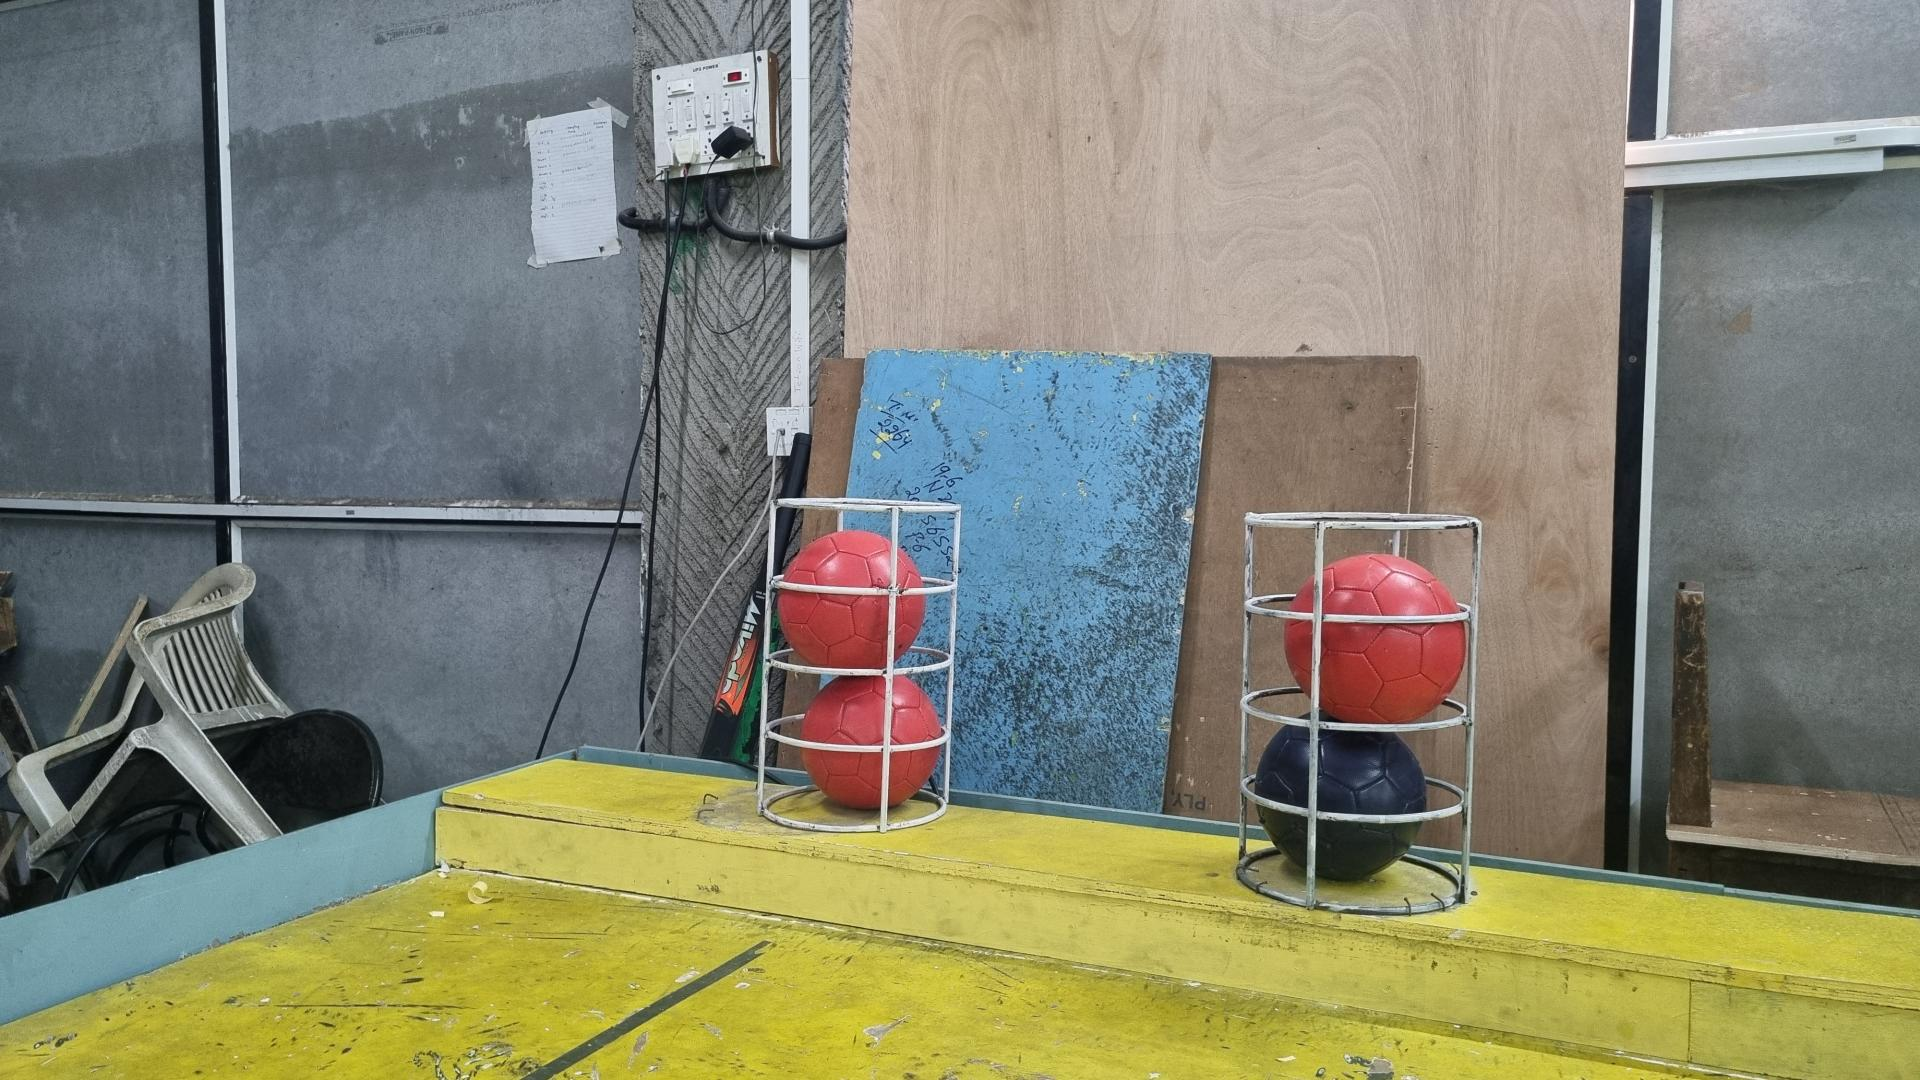dhoka: (1250, 713, 1425, 882)
laale: (1283, 551, 1468, 724), (775, 531, 926, 670), (800, 676, 943, 811)
